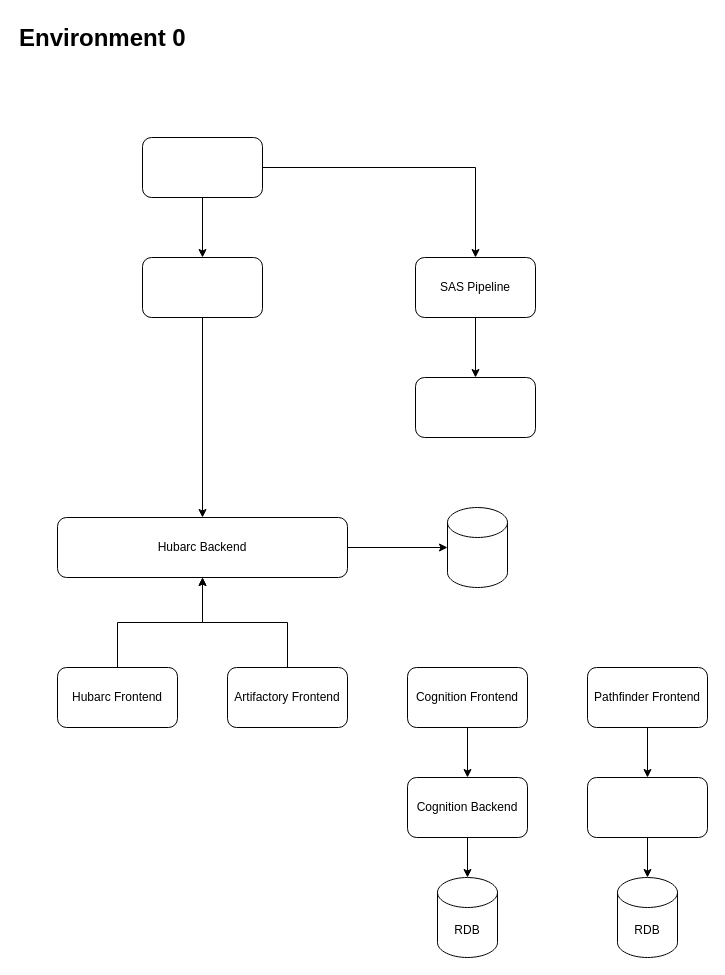
Some shapes in this 725 by 975 pixel diagram are drawn without their labels. The shapes that lost their labels are listed below. From the top down, each one's centre as x and y in pixels, then its label:
point (202, 167): Data Sources
point (202, 287): Data Pipeline
point (475, 407): SAS Dashboard
point (477, 547): Graph Db
point (647, 807): Pathfinder Backend
